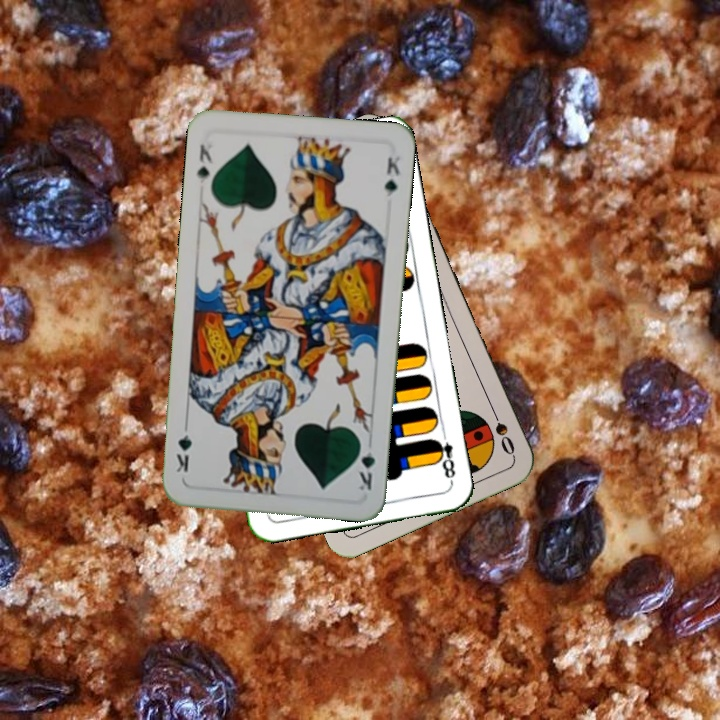E8: (429, 426, 458, 485)
GK: (354, 436, 377, 493), (193, 139, 217, 186)
SO: (486, 402, 518, 458)
